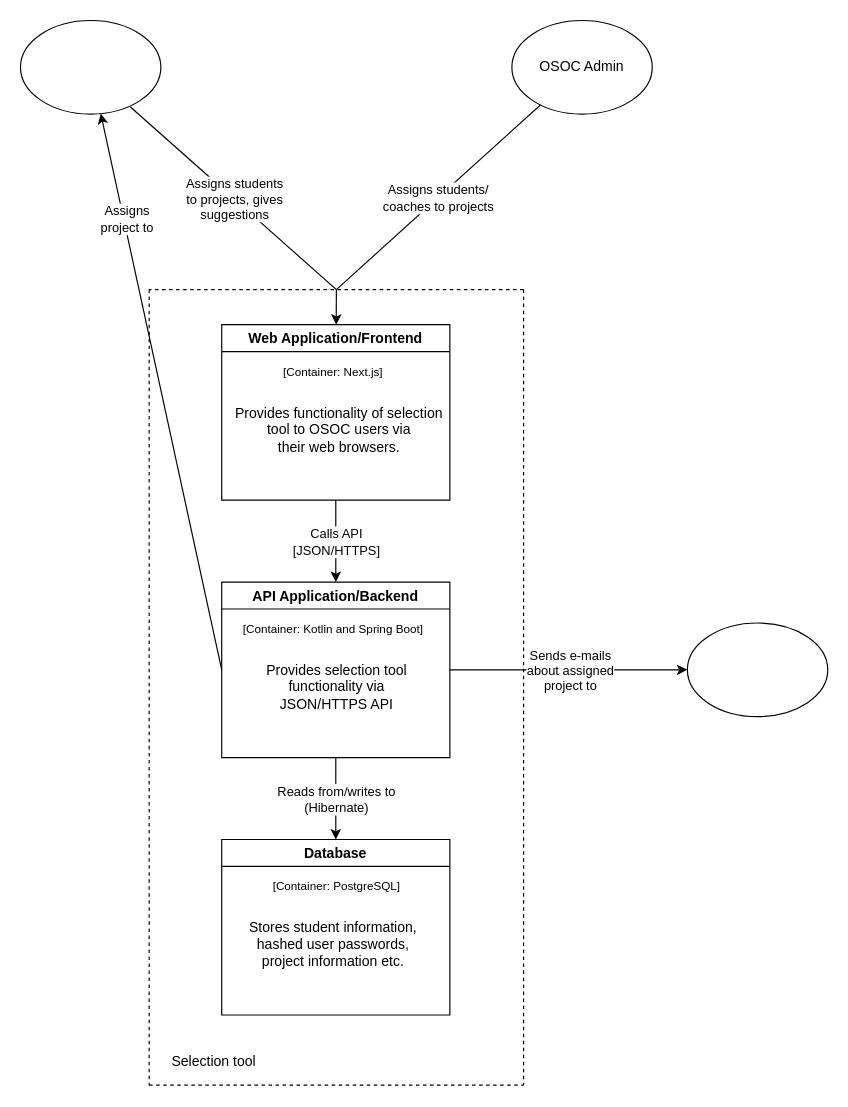
This 848x1107 diagram has some shape labels left out. Here are the shapes that lost their labels. From the top down, the centre of each, then its label:
the point at 90,66: OSOC Coach
the point at 757,669: Student
